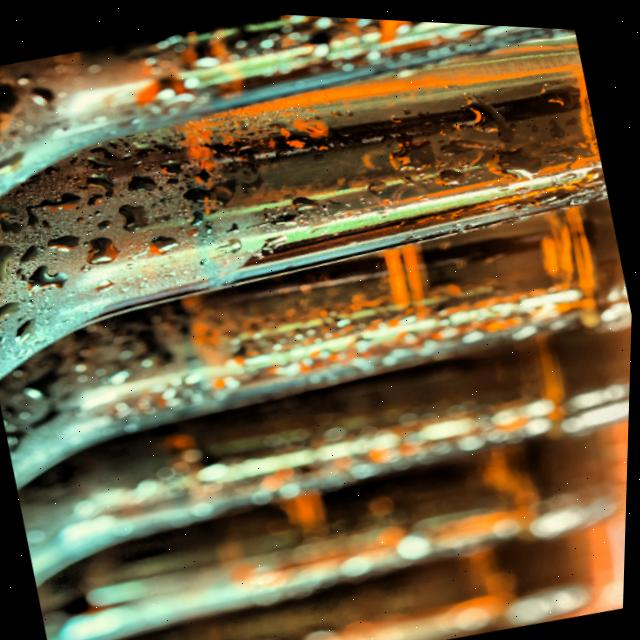glass: (0, 31, 609, 384), (0, 193, 633, 488)
metal: (579, 513, 629, 607), (606, 408, 631, 517)
